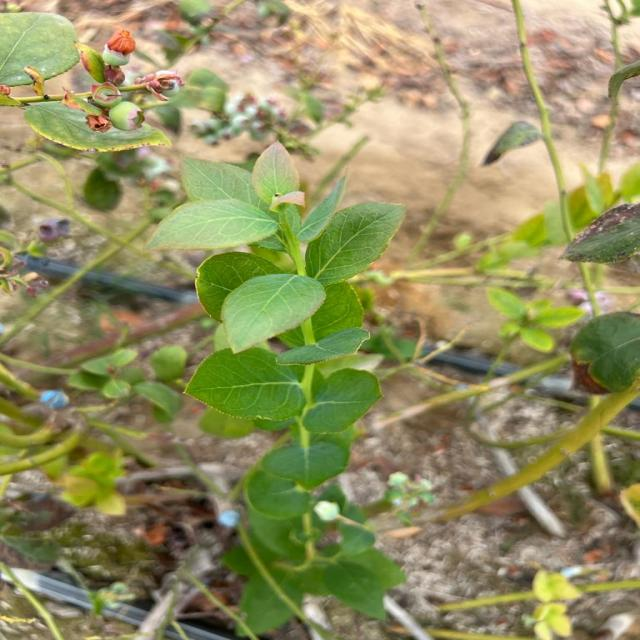Hojas sanas sin oidiosis: (180, 344, 308, 420), (192, 250, 302, 335), (218, 272, 328, 354), (304, 200, 408, 286), (300, 366, 386, 433), (294, 166, 346, 246), (274, 326, 370, 366), (248, 138, 300, 210)
